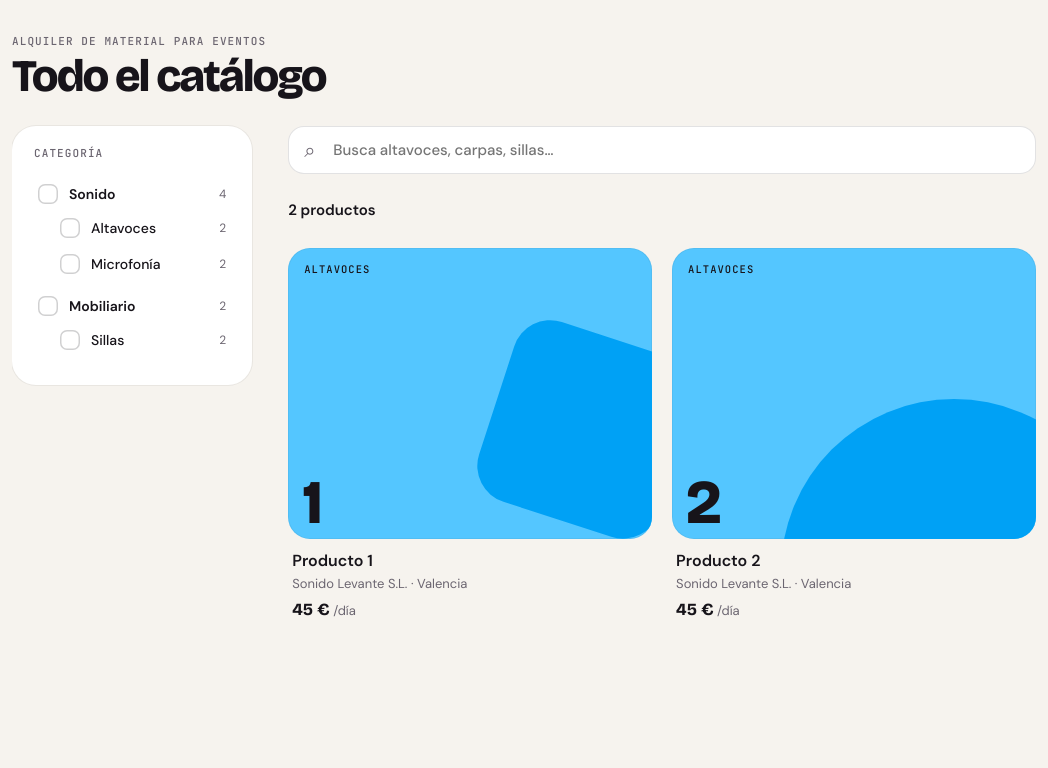
it: Catalog · filtre per categories › treure el xip torna al catàleg complet
Click the checkbox labelled "Sonido 4" at (132, 194), box [34,177,230,211]
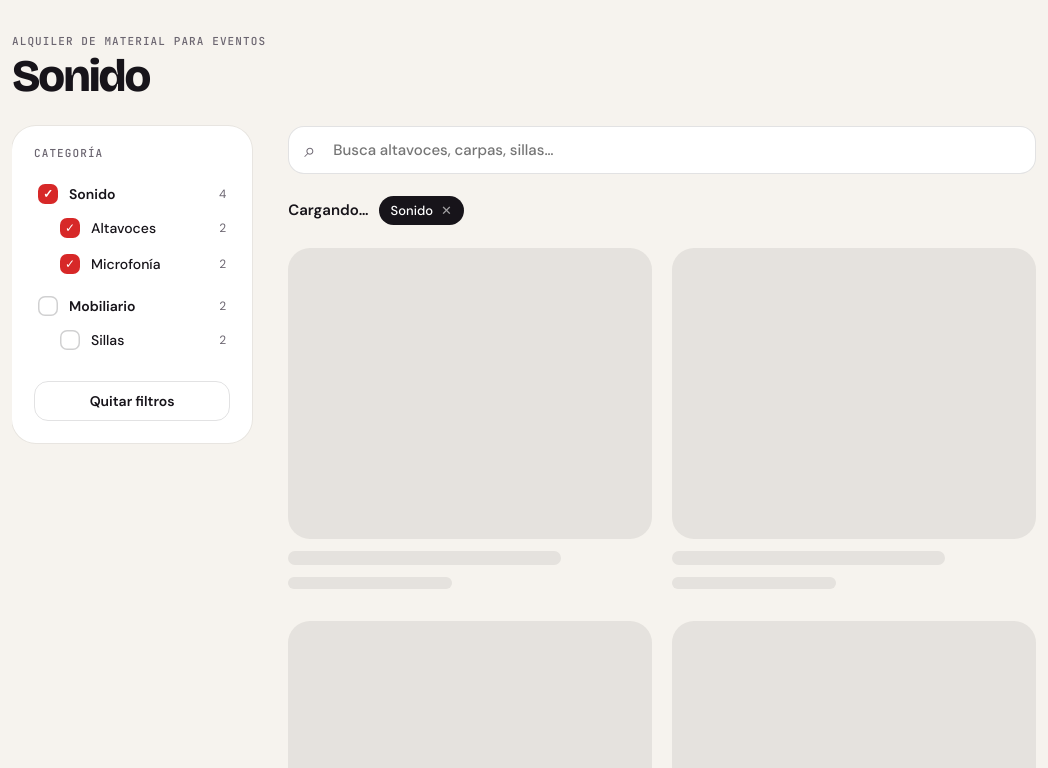
Click the button with aria-label "Quitar filtro Sonido" at (421, 211), box [379,196,464,225]
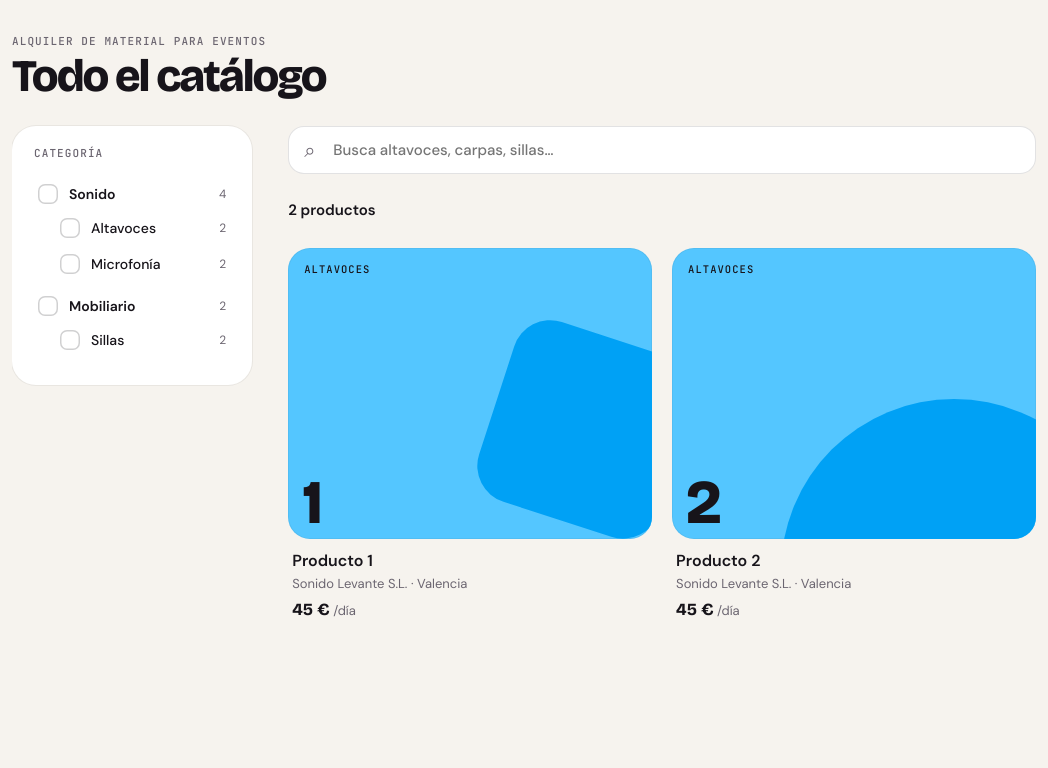
Expected: the heading "Todo el catálogo" is shown, [12,49,326,103]
